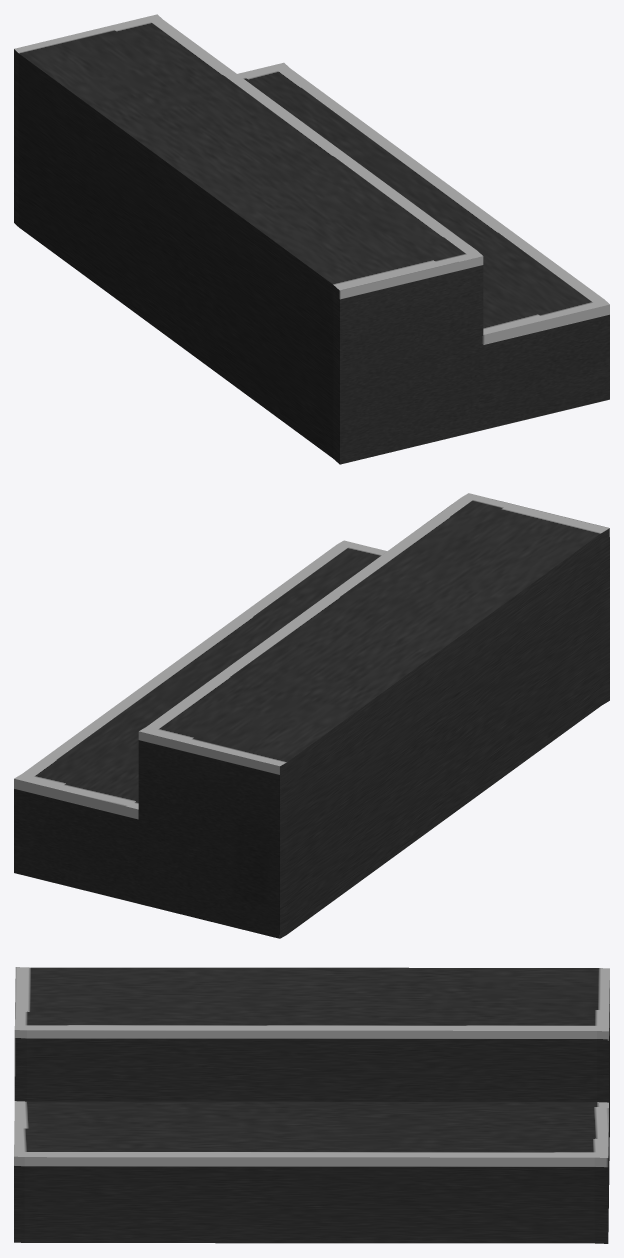
The model's file is MS_Stage_Stairs.fbx.
The picture shows the model from 3 angles, top to bottom: view 1: azimuth 30°, elevation 25°; view 2: azimuth 150°, elevation 25°; view 3: azimuth 270°, elevation 25°; orthographic projection. The views are drawn at different scales.
Parts seen in each view (by area): view 1: MS_Steps; view 2: MS_Steps; view 3: MS_Steps.
Boxes of the visible parts, x1,y1,x2,y2 form: MS_Steps: [14, 14, 609, 464]; MS_Steps: [14, 493, 609, 938]; MS_Steps: [14, 967, 609, 1243].
Bounding box in the file's own units: 159 × 96.74 × 333.
